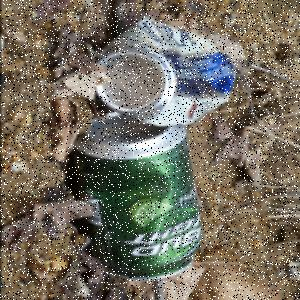Can: (75, 113, 205, 284), (97, 18, 236, 129)
